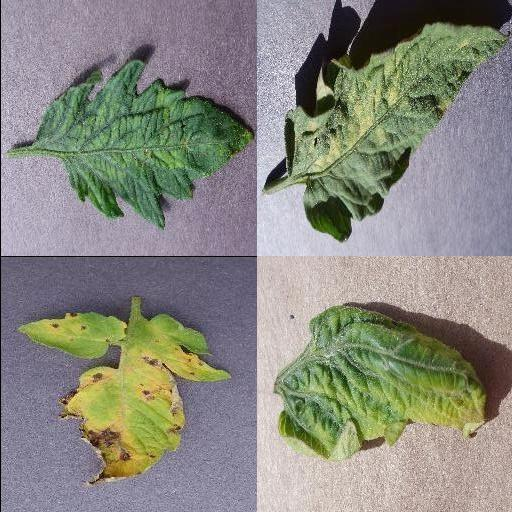Leaf Mold: (283, 21, 512, 244)
Mosaic Virus: (31, 58, 253, 231)
Septoria: (58, 311, 227, 485), (15, 311, 125, 359)
Yellow Leaf Curl Virus: (273, 303, 485, 460)
